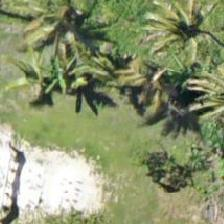Kelapa_Sawit: (105, 36, 195, 126), (25, 26, 115, 116), (135, 0, 224, 66), (14, 0, 104, 65)
